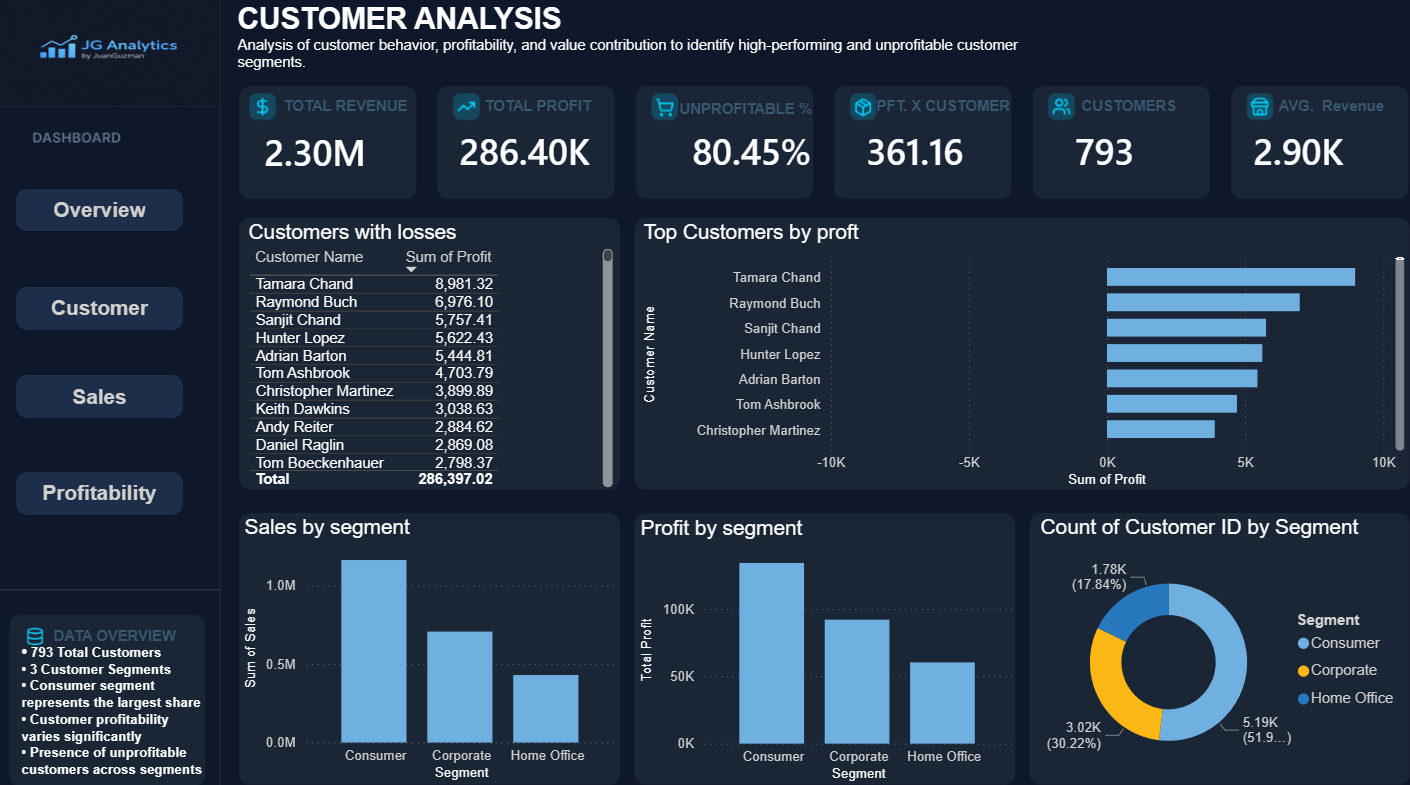

What the dashboard file says about the page in this screenshot:
{"tool":"powerbi","page":{"name":"Customer Analysis","canvas":[1280,720],"ordinal":1},"visuals":[{"type":"image","box":[0,0,201.3,98.2],"z":0},{"type":"group","id":"g1","title":"Group 1","box":[18,172.4,149.9,38.6],"z":1000},{"type":"shape","box":[18,172.4,149.9,37.7],"z":1000,"group":"g1"},{"type":"actionButton","title":"PROFITABILITY","box":[18,172.4,149.9,38.6],"z":2000,"group":"g1"},{"type":"group","id":"g2","title":"Group 2","box":[18,260.3,149.9,38.6],"z":2000},{"type":"shape","box":[18,260.3,149.9,38.6],"z":3000,"group":"g2"},{"type":"group","id":"g3","title":"Group 3","box":[18,339.4,149.9,39.5],"z":3000},{"type":"shape","box":[18,339.4,149.9,38.6],"z":4000,"group":"g3"},{"type":"group","id":"g4","title":"Group 4","box":[18,426.4,149.9,38.6],"z":4000},{"type":"group","id":"g5","title":"Group 5","box":[939.9,85.3,180.1,100.6],"z":5000},{"type":"shape","box":[18,426.4,149.9,38.6],"z":5000,"group":"g4"},{"type":"cardVisual","fields":{"Data":["Superstore sales dataset.Customer Revenue"]},"box":[211.7,85.3,202.2,102.5],"z":6000},{"type":"actionButton","title":"PROFITABILITY","box":[18,260.3,149.9,38.6],"z":6000,"group":"g2"},{"type":"textbox","box":[252.9,85.3,133.2,25.9],"z":7000},{"type":"actionButton","title":"PROFITABILITY","box":[18,340.3,149.9,38.6],"z":7000,"group":"g3"},{"type":"cardVisual","fields":{"Data":["Superstore sales dataset.Customer Profit"]},"box":[387.1,88.1,180.1,97.7],"z":8000},{"type":"actionButton","title":"PROFITABILITY","box":[18,426.4,149.9,38.6],"z":8000,"group":"g4"},{"type":"textbox","box":[434,85.3,133.2,25.9],"z":9000},{"type":"cardVisual","fields":{"Data":["Superstore sales dataset.AVG Revenue per Customer"]},"box":[1099.9,88.1,180.1,97.7],"z":10000},{"type":"textbox","box":[1146.8,85.3,133.2,25.9],"z":11000},{"type":"cardVisual","fields":{"Data":["Superstore sales dataset.Profit per Customer"]},"box":[752.1,88.1,180.1,97.7],"z":12000},{"type":"textbox","box":[785.5,85.3,132.9,26],"z":13000},{"type":"cardVisual","fields":{"Data":["Superstore sales dataset.Total Customers"]},"box":[939.9,88.2,180.1,97.7],"z":13000,"group":"g5"},{"type":"textbox","box":[969.6,85.3,133.2,25.9],"z":14000,"group":"g5"},{"type":"cardVisual","fields":{"Data":["Superstore sales dataset.Unprofitable Customers %"]},"box":[595.9,88.1,180.1,97.7],"z":14000},{"type":"textbox","box":[608.7,88,133.8,26],"z":15000},{"type":"textbox","box":[211.9,0,728.1,77.2],"z":16000},{"type":"barChart","title":"Top customers by proft","fields":{"Category":["Superstore sales dataset.Customer Name"],"Y":["Sum(Superstore sales dataset.Profit)"]},"box":[576.4,200.2,693.1,245.1],"z":17000},{"type":"tableEx","title":"Customers with losses","fields":{"Values":["Superstore sales dataset.Customer Name","Sum(Superstore sales dataset.Profit)"]},"box":[221.7,200.2,336.7,245.1],"z":18000},{"type":"columnChart","title":"Sales by segment","fields":{"Category":["Superstore sales dataset.Segment"],"Y":["Sum(Superstore sales dataset.Sales)"]},"box":[218.2,465,343.8,243.3],"z":19000},{"type":"columnChart","title":"Profit by segment","fields":{"Category":["Superstore sales dataset.Segment"],"Y":["Superstore sales dataset.Total Profit"]},"box":[573.9,465.6,344,243.4],"z":20000},{"type":"donutChart","title":"count of customer ID by segment","fields":{"Category":["Superstore sales dataset.Segment"],"Y":["CountNonNull(Superstore sales dataset.Customer ID)"]},"box":[932.8,465,335.8,243.3],"z":21000},{"type":"textbox","box":[46.9,561.4,133.2,25.9],"z":22000},{"type":"textbox","box":[18,574.6,179.6,134.7],"z":23000}]}

Visuals, with their boxes on the page's 1280x720 design canvas (x1, y1, x2, y2). These are canvas units, not pixel positions in the 1410x785 screenshot, which may show the page scaled, cropped or inside an application window:
image: [0, 0, 201, 98]
"Group 1" group: [18, 172, 168, 211]
shape: [18, 172, 168, 210]
"PROFITABILITY" actionButton: [18, 172, 168, 211]
"Group 2" group: [18, 260, 168, 299]
shape: [18, 260, 168, 299]
"Group 3" group: [18, 339, 168, 379]
shape: [18, 339, 168, 378]
"Group 4" group: [18, 426, 168, 465]
"Group 5" group: [940, 85, 1120, 186]
shape: [18, 426, 168, 465]
cardVisual - Superstore sales dataset.Customer Revenue: [212, 85, 414, 188]
"PROFITABILITY" actionButton: [18, 260, 168, 299]
textbox: [253, 85, 386, 111]
"PROFITABILITY" actionButton: [18, 340, 168, 379]
cardVisual - Superstore sales dataset.Customer Profit: [387, 88, 567, 186]
"PROFITABILITY" actionButton: [18, 426, 168, 465]
textbox: [434, 85, 567, 111]
cardVisual - Superstore sales dataset.AVG Revenue per Customer: [1100, 88, 1280, 186]
textbox: [1147, 85, 1280, 111]
cardVisual - Superstore sales dataset.Profit per Customer: [752, 88, 932, 186]
textbox: [786, 85, 918, 111]
cardVisual - Superstore sales dataset.Total Customers: [940, 88, 1120, 186]
textbox: [970, 85, 1103, 111]
cardVisual - Superstore sales dataset.Unprofitable Customers %: [596, 88, 776, 186]
textbox: [609, 88, 742, 114]
textbox: [212, 0, 940, 77]
"Top customers by proft" barChart: [576, 200, 1270, 445]
"Customers with losses" tableEx: [222, 200, 558, 445]
"Sales by segment" columnChart: [218, 465, 562, 708]
"Profit by segment" columnChart: [574, 466, 918, 709]
"count of customer ID by segment" donutChart: [933, 465, 1269, 708]
textbox: [47, 561, 180, 587]
textbox: [18, 575, 198, 709]
